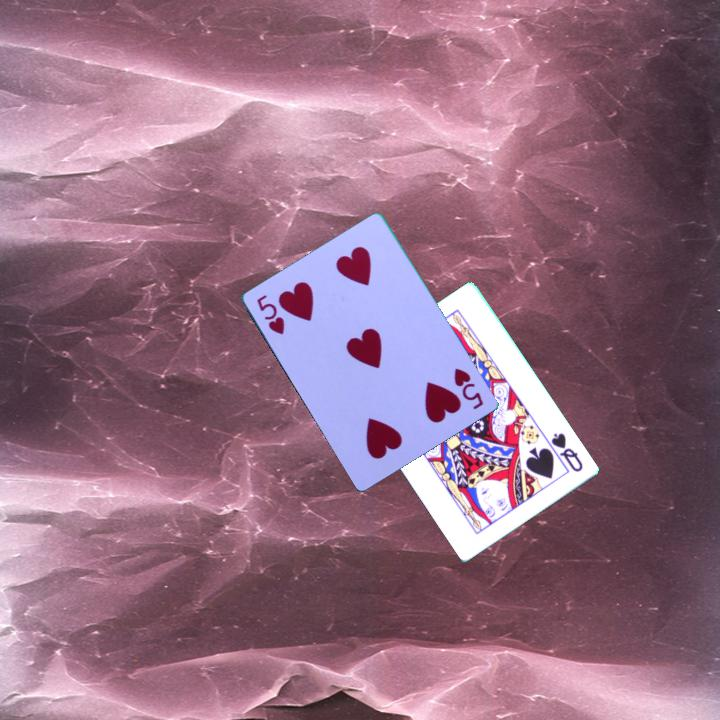5h: (451, 365, 487, 413), (253, 291, 288, 338)
Qs: (543, 429, 586, 475)
